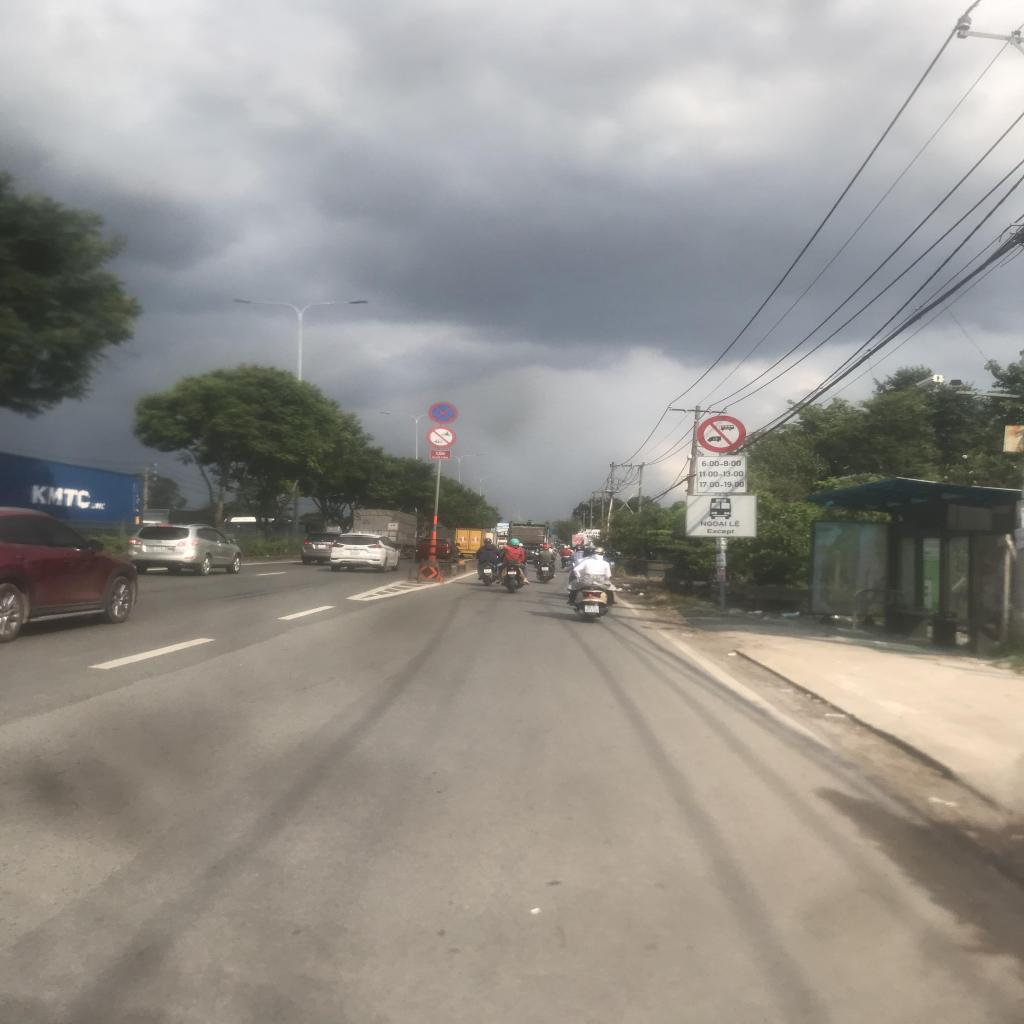cam_dung_xe_va_do_xe: (428, 402, 459, 424)
cam_o_to_tai_va_xe_khach: (698, 415, 746, 453)
cam_xe_2_banh_va_xe_3_banh_co_dong_co: (426, 426, 457, 448)
khac: (686, 495, 756, 536), (696, 455, 746, 493)
